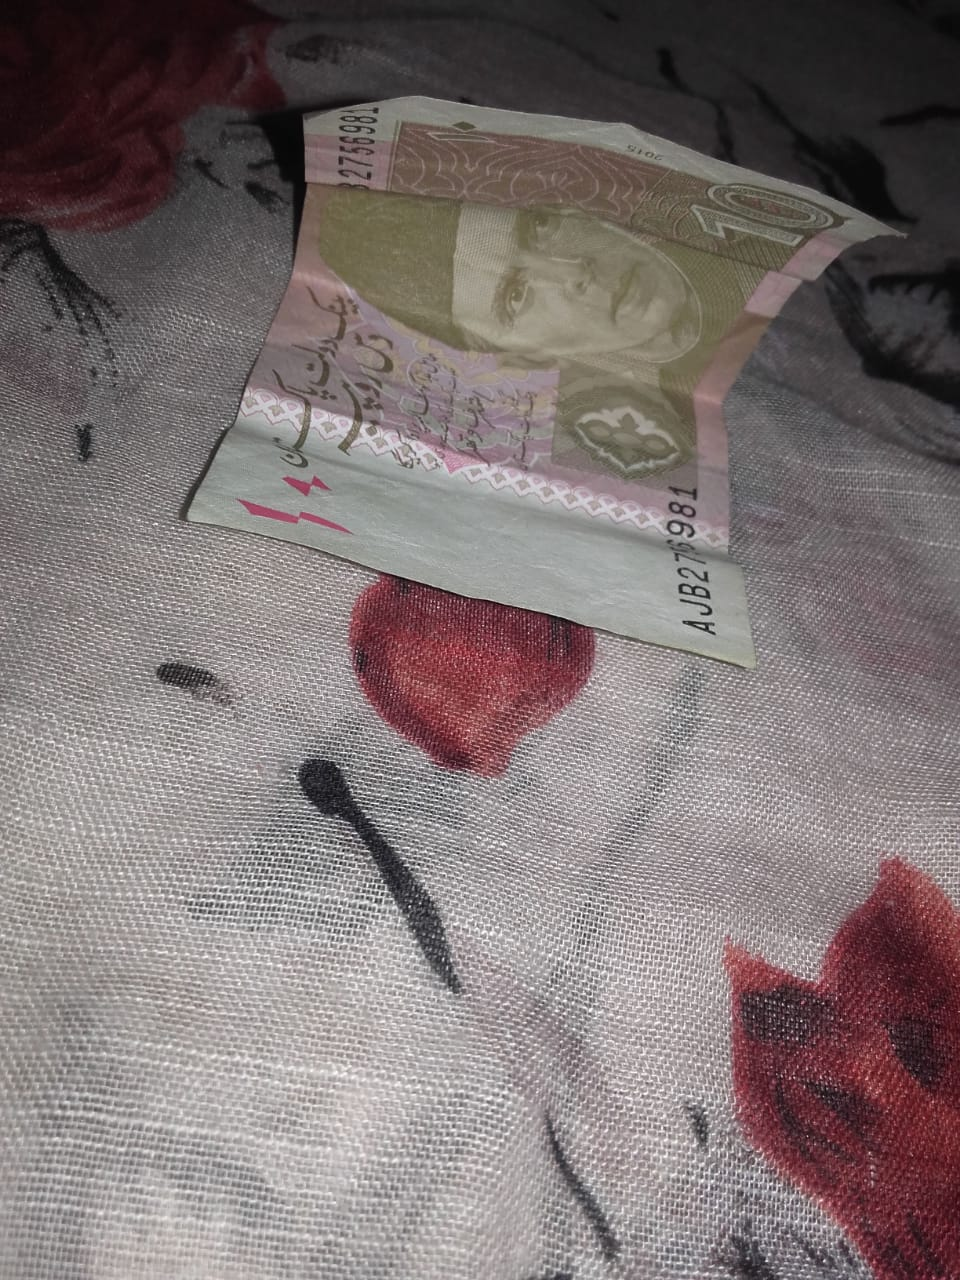10 rupee: (183, 82, 897, 662)
